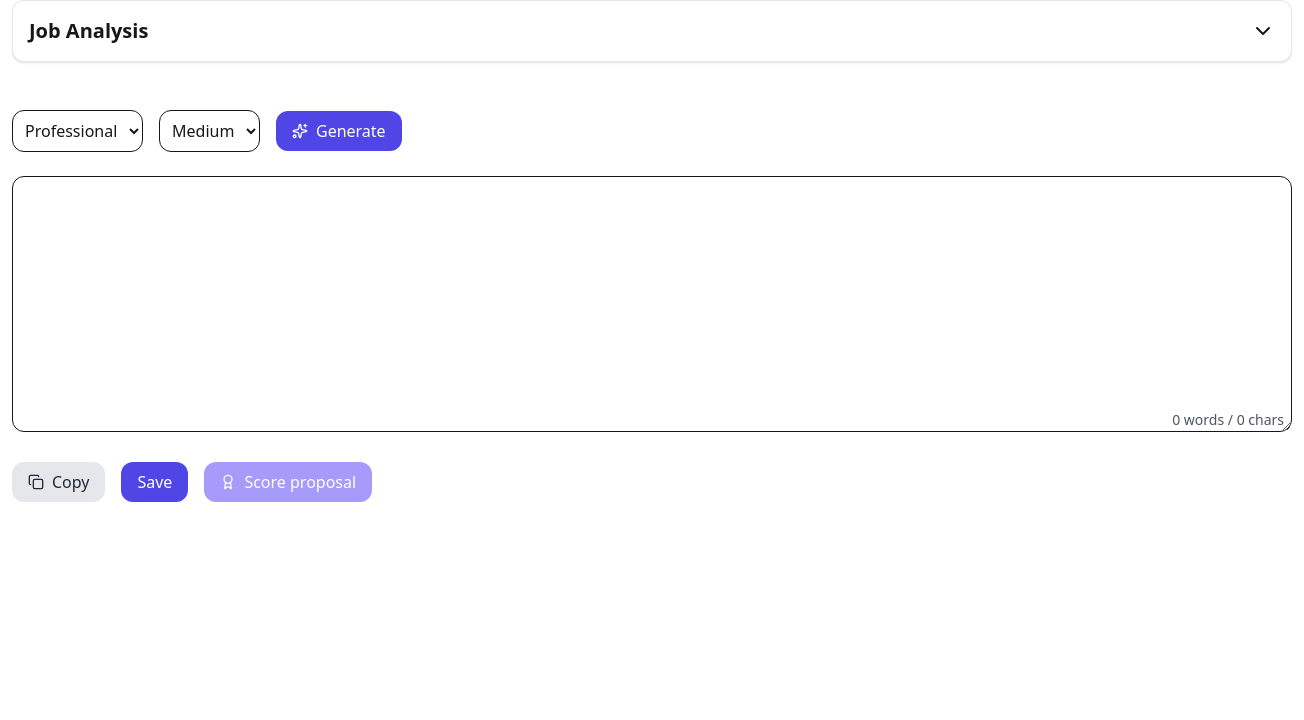
Test: ProposalEditor – error box on fetch failure › shows error box with Retry button when API returns non-ok response
Click the button "Generate": (339, 131) [276,111,402,151]
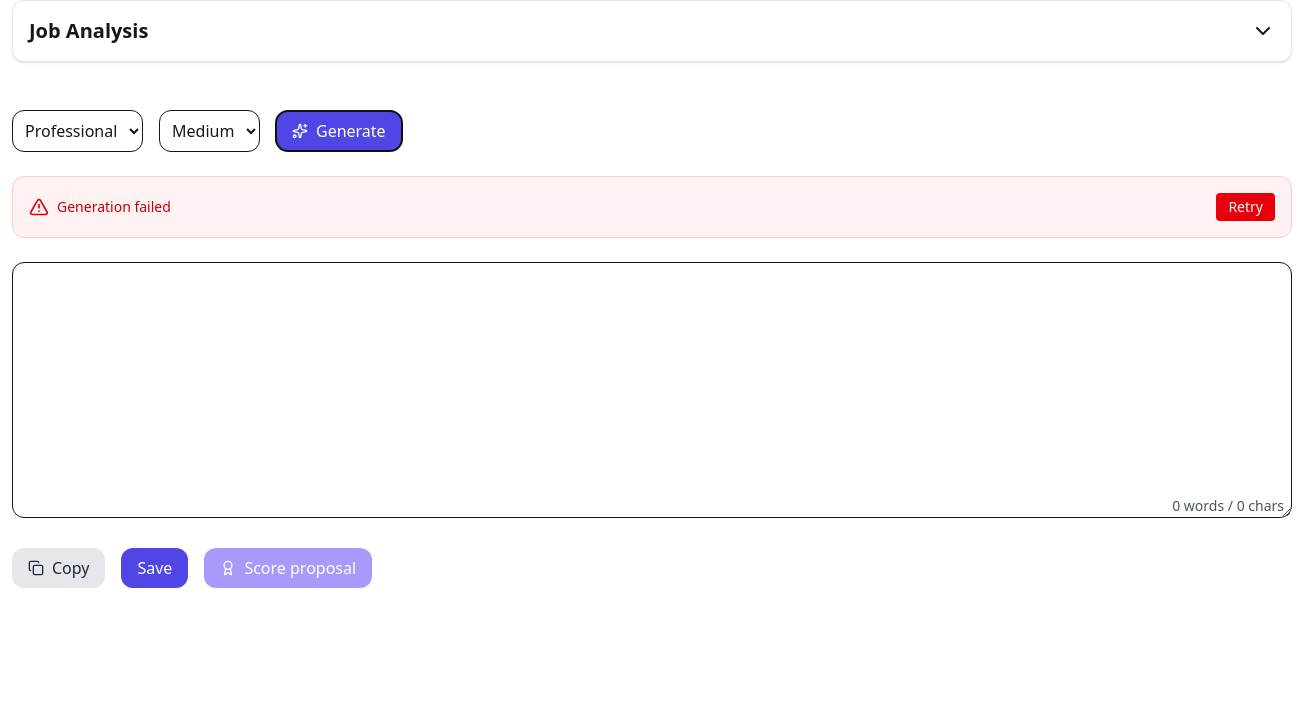
Expected: the text "Generation failed" is shown, [57,197,171,217]
Expected: the button "Retry" is shown, [1216,193,1275,221]
